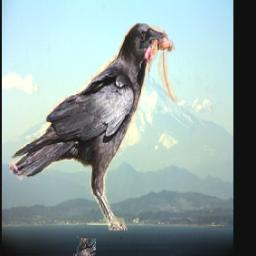Crow: (10, 16, 185, 232), (74, 239, 97, 256)
